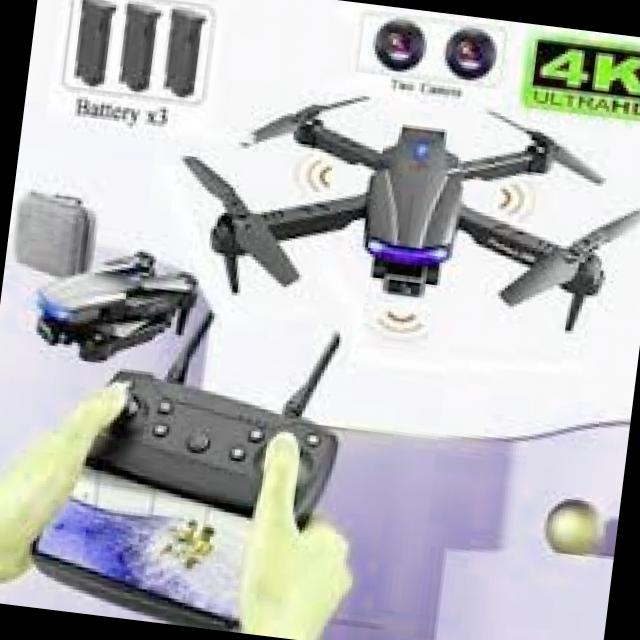drone: (161, 73, 640, 366)
